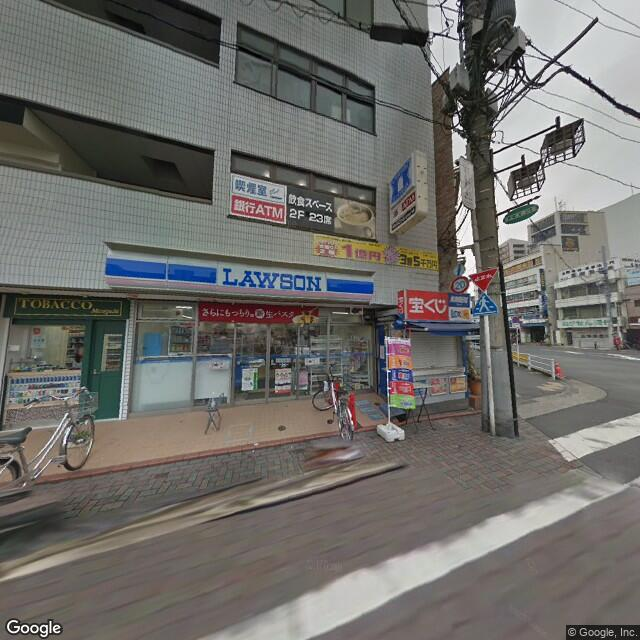lawson: (101, 247, 375, 307), (389, 152, 416, 208)
